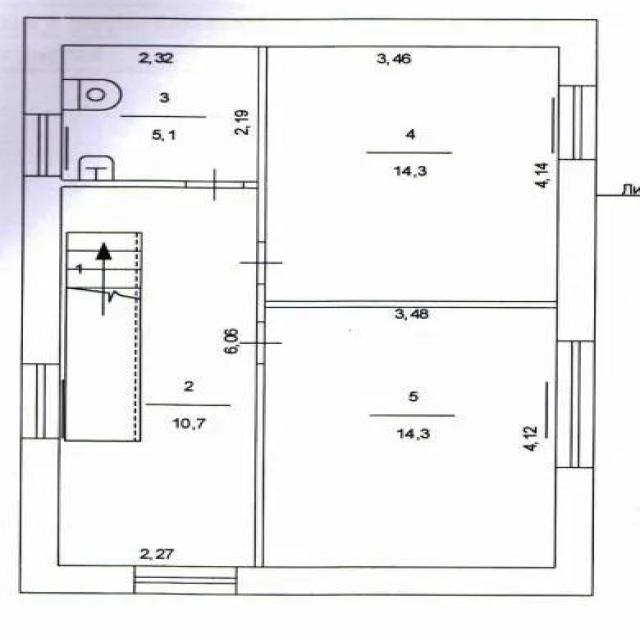Bathrooms: (65, 47, 257, 181)
Corridors: (62, 189, 254, 564)
Doors: (186, 167, 243, 206), (238, 321, 286, 365), (239, 241, 285, 284)
LBwalls: (22, 15, 598, 113), (237, 468, 595, 596), (18, 439, 135, 596), (20, 176, 61, 362), (557, 160, 595, 341)
Offices: (267, 310, 553, 566), (268, 49, 556, 301)
Stairs: (64, 231, 144, 443)
Walls: (255, 284, 557, 322), (243, 47, 268, 242), (255, 364, 264, 567), (60, 180, 187, 188)
Windows: (555, 340, 594, 468), (20, 362, 60, 439), (135, 565, 237, 595), (558, 86, 597, 160), (22, 113, 60, 176)
